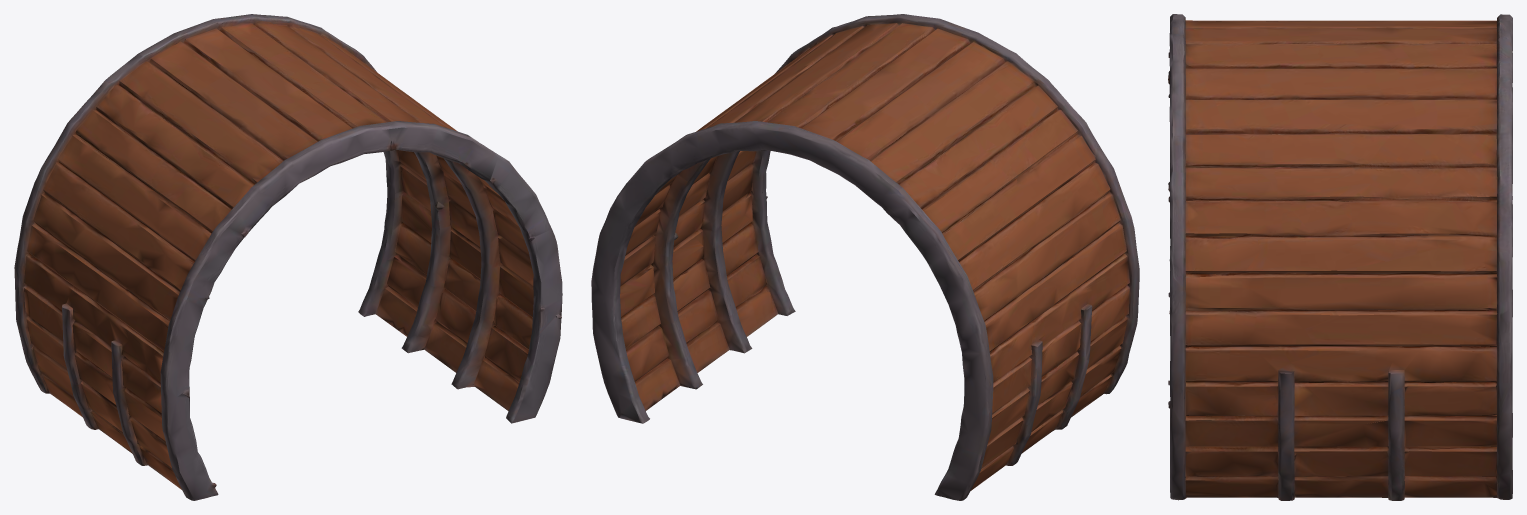
The model's file is decor_arch_wood_idle.glb.
3 renders of one model, left to right at view 1: azimuth 30°, elevation 25°; view 2: azimuth 150°, elevation 25°; view 3: azimuth 270°, elevation 25°, orthographic. The views are drawn at different scales.
Parts seen in each view (by area): view 1: tripo_node_9bd7c225-3648-405d-b269-f9e8ad45ab72; view 2: tripo_node_9bd7c225-3648-405d-b269-f9e8ad45ab72; view 3: tripo_node_9bd7c225-3648-405d-b269-f9e8ad45ab72.
Boxes of the visible parts, box(x1,y1,x2,y2) form: tripo_node_9bd7c225-3648-405d-b269-f9e8ad45ab72: box(14, 14, 562, 500); tripo_node_9bd7c225-3648-405d-b269-f9e8ad45ab72: box(591, 14, 1139, 500); tripo_node_9bd7c225-3648-405d-b269-f9e8ad45ab72: box(1168, 14, 1512, 500).
Size of the model in its own units: 2.54 by 2 by 1.69.
Materials: 1 (1 with a texture image).
